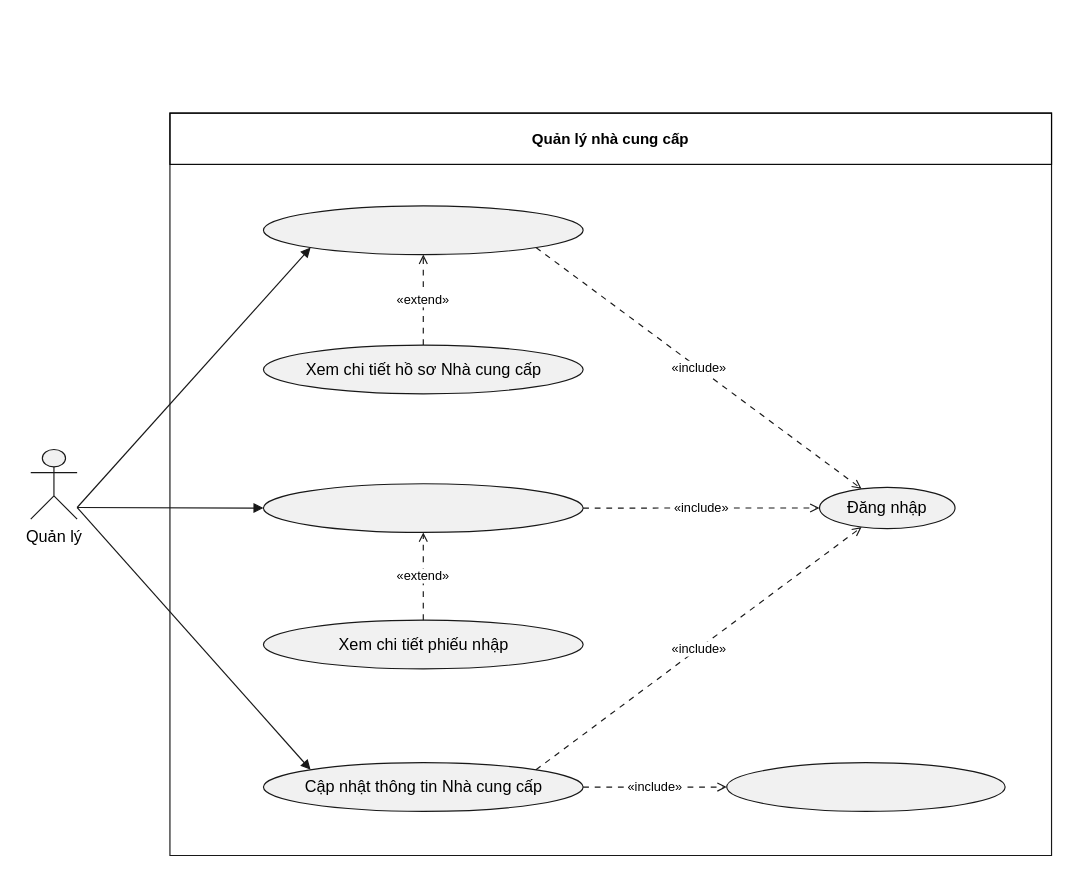
Image size: 1072x876. Some labels were removed from this diagram. The centre of each missing label's shape, as x and y in pixels:
Kiểm tra tính hợp lệ dữ liệu: (865,786)
Tra cứu lịch sử nhập hàng: (422,507)
Tra cứu thông tin Nhà cung cấp: (422,230)
